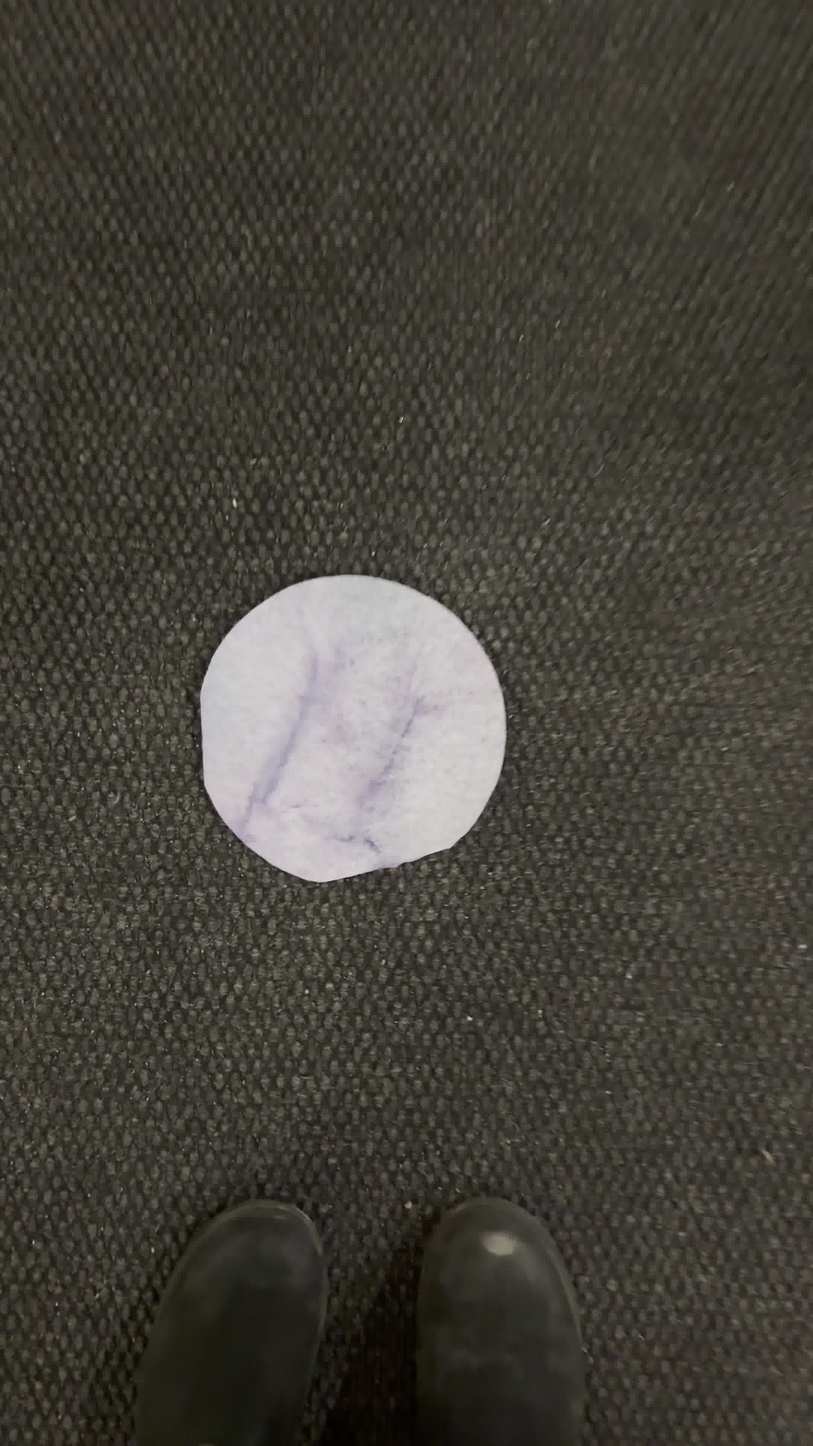Target: (198, 569, 510, 884)
